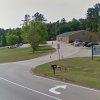Tree: (15, 7, 53, 54)
